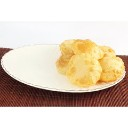poori: (68, 55, 100, 85), (99, 56, 124, 81), (74, 38, 103, 59), (61, 39, 77, 57)
